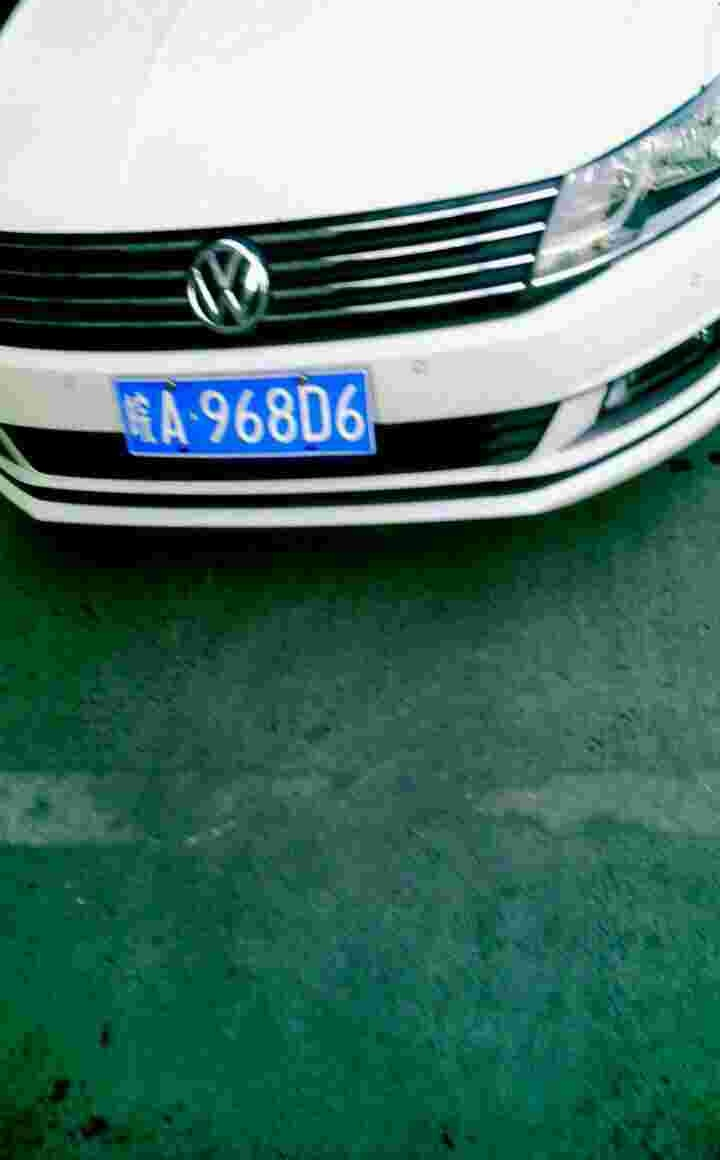license_plate: (116, 373, 393, 464)
